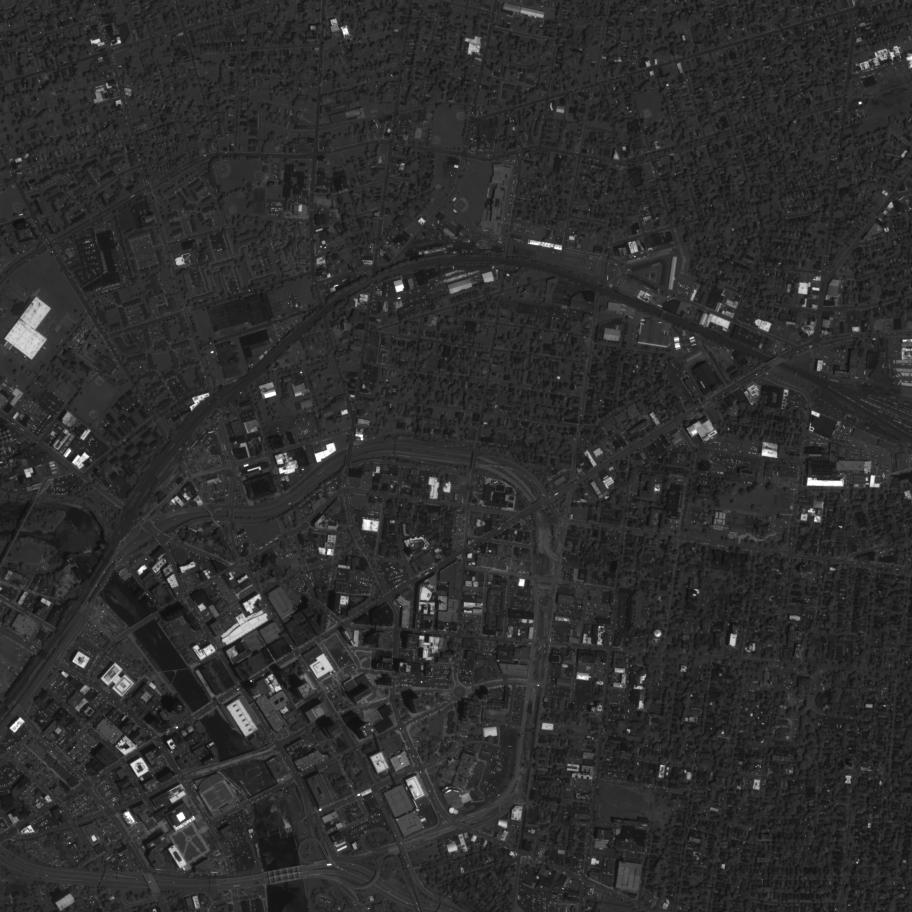storage-tank: (449, 807, 455, 814), (454, 810, 459, 815)
